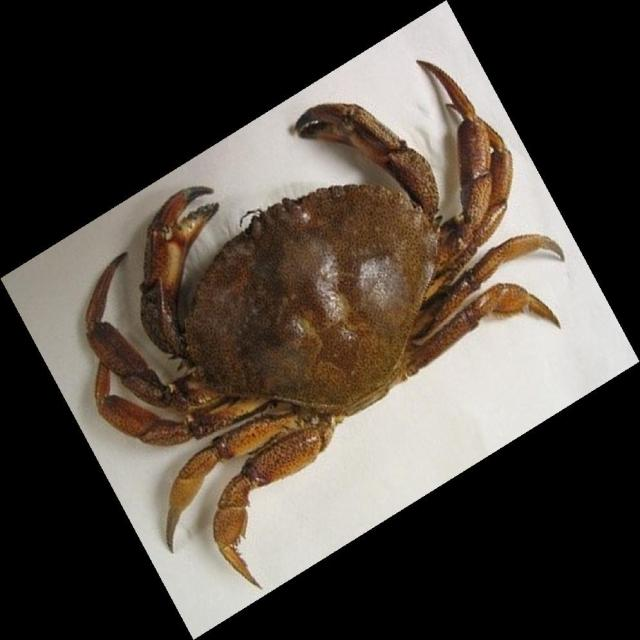Native Rock crab: (86, 60, 563, 586)
